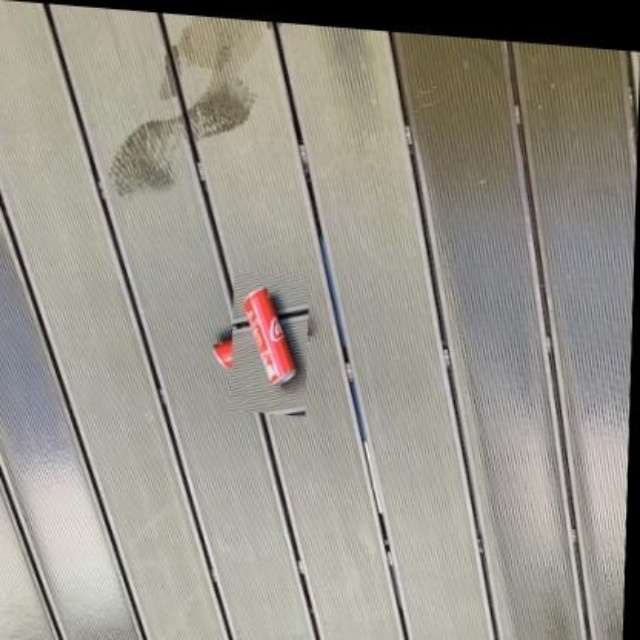trash: (245, 288, 294, 383)
